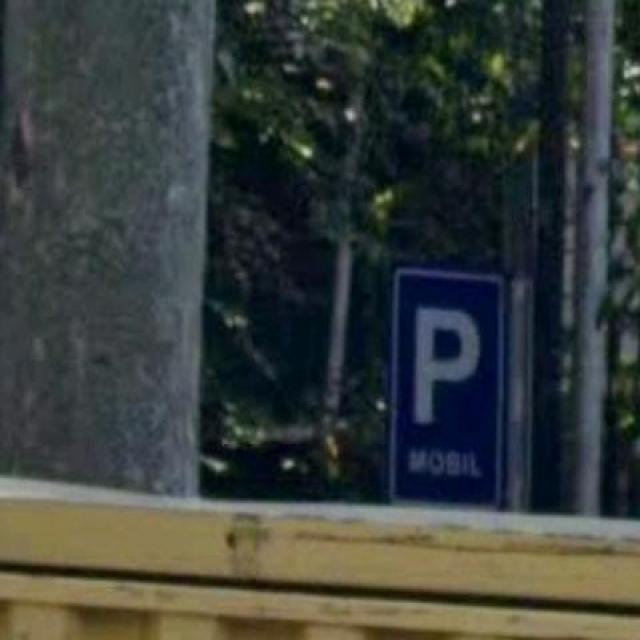traffic sign: (391, 264, 507, 506)
